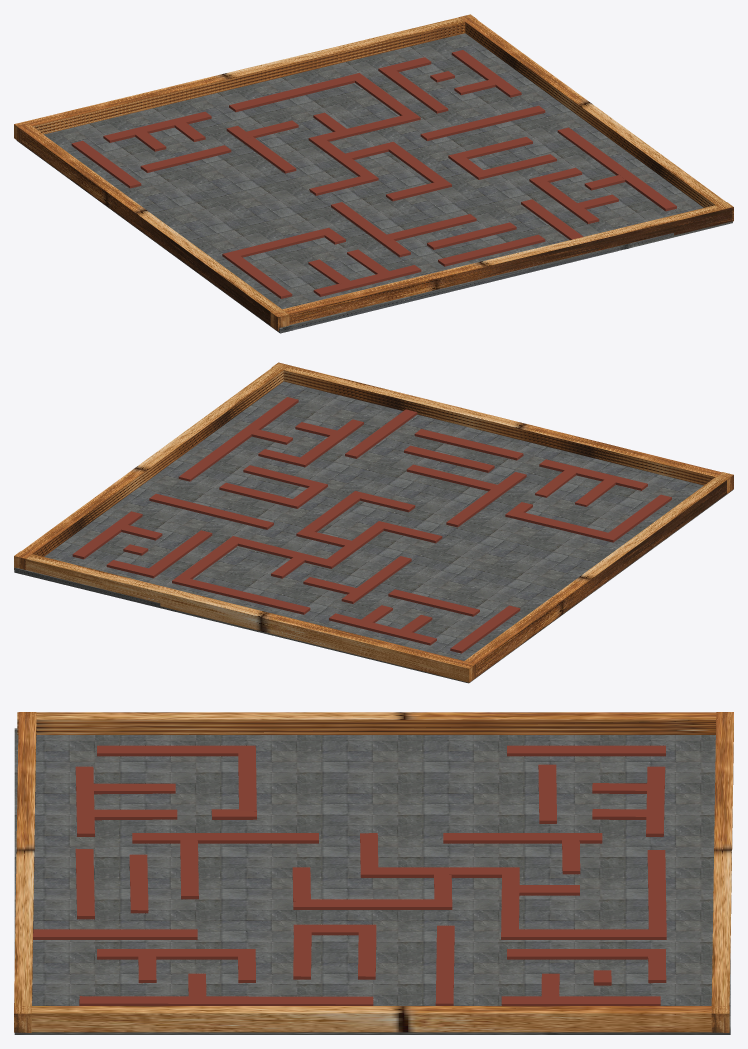
The model's file is Maze.obj.
The picture shows the model from 3 angles, top to bottom: view 1: azimuth 30°, elevation 25°; view 2: azimuth 150°, elevation 25°; view 3: azimuth 270°, elevation 25°; orthographic projection. The views are drawn at different scales.
Parts seen in each view (by area): view 1: Cube.056_Cube, Cube.002_Cube.003, Cube.001_Cube.002, Cube.003_Cube.004, Cube_Cube.001, Cube.008_Cube.010, Cube.037_Cube.041, Cube.016_Cube.018, Cube.029_Cube.033, Cube.054_Cube.058, Cube.026_Cube.030, Cube.023_Cube.027 (+18 smaller); view 2: Cube.056_Cube, Cube.001_Cube.002, Cube.002_Cube.003, Cube.003_Cube.004, Cube_Cube.001, Cube.008_Cube.010, Cube.037_Cube.041, Cube.016_Cube.018, Cube.029_Cube.033, Cube.054_Cube.058, Cube.023_Cube.027, Cube.026_Cube.030 (+18 smaller); view 3: Cube.056_Cube, Cube_Cube.001, Cube.003_Cube.004, Cube.001_Cube.002, Cube.002_Cube.003, Cube.008_Cube.010, Cube.029_Cube.033, Cube.020_Cube.024, Cube.021_Cube.025, Cube.050_Cube.054, Cube.004_Cube.005, Cube.030_Cube.034 (+29 smaller).
Boxes of the visible parts, x1,y1,x2,y2 form: Cube.056_Cube: (16, 33, 732, 333); Cube.002_Cube.003: (270, 202, 733, 330); Cube.001_Cube.002: (14, 14, 477, 142); Cube.003_Cube.004: (18, 123, 289, 330); Cube_Cube.001: (459, 14, 732, 209); Cube.008_Cube.010: (557, 127, 676, 211); Cube.037_Cube.041: (229, 75, 359, 112); Cube.016_Cube.018: (420, 105, 545, 140); Cube.029_Cube.033: (331, 202, 410, 257); Cube.054_Cube.058: (438, 234, 545, 266); Cube.026_Cube.030: (313, 265, 421, 296); Cube.023_Cube.027: (103, 111, 211, 142); Cube.056_Cube: (14, 381, 733, 683); Cube.001_Cube.002: (14, 551, 475, 682); Cube.002_Cube.003: (272, 362, 733, 493); Cube.003_Cube.004: (465, 472, 733, 677); Cube_Cube.001: (14, 363, 289, 569); Cube.008_Cube.010: (178, 397, 298, 481); Cube.037_Cube.041: (183, 577, 310, 614); Cube.016_Cube.018: (149, 493, 273, 529); Cube.029_Cube.033: (446, 472, 526, 527); Cube.054_Cube.058: (414, 429, 523, 460); Cube.023_Cube.027: (329, 613, 436, 645); Cube.026_Cube.030: (539, 459, 647, 490); Cube.056_Cube: (14, 728, 730, 1034); Cube_Cube.001: (16, 1006, 729, 1032); Cube.003_Cube.004: (17, 712, 730, 734); Cube.001_Cube.002: (711, 712, 733, 1032); Cube.002_Cube.003: (14, 712, 36, 1032); Cube.008_Cube.010: (79, 996, 373, 1005); Cube.029_Cube.033: (132, 833, 318, 843); Cube.020_Cube.024: (507, 745, 665, 756); Cube.021_Cube.025: (97, 745, 255, 756); Cube.050_Cube.054: (33, 929, 197, 939); Cube.004_Cube.005: (293, 899, 452, 909); Cube.030_Cube.034: (443, 833, 602, 843).
Bounding box in the file's own units: 13.6 × 0.455 × 13.71.
